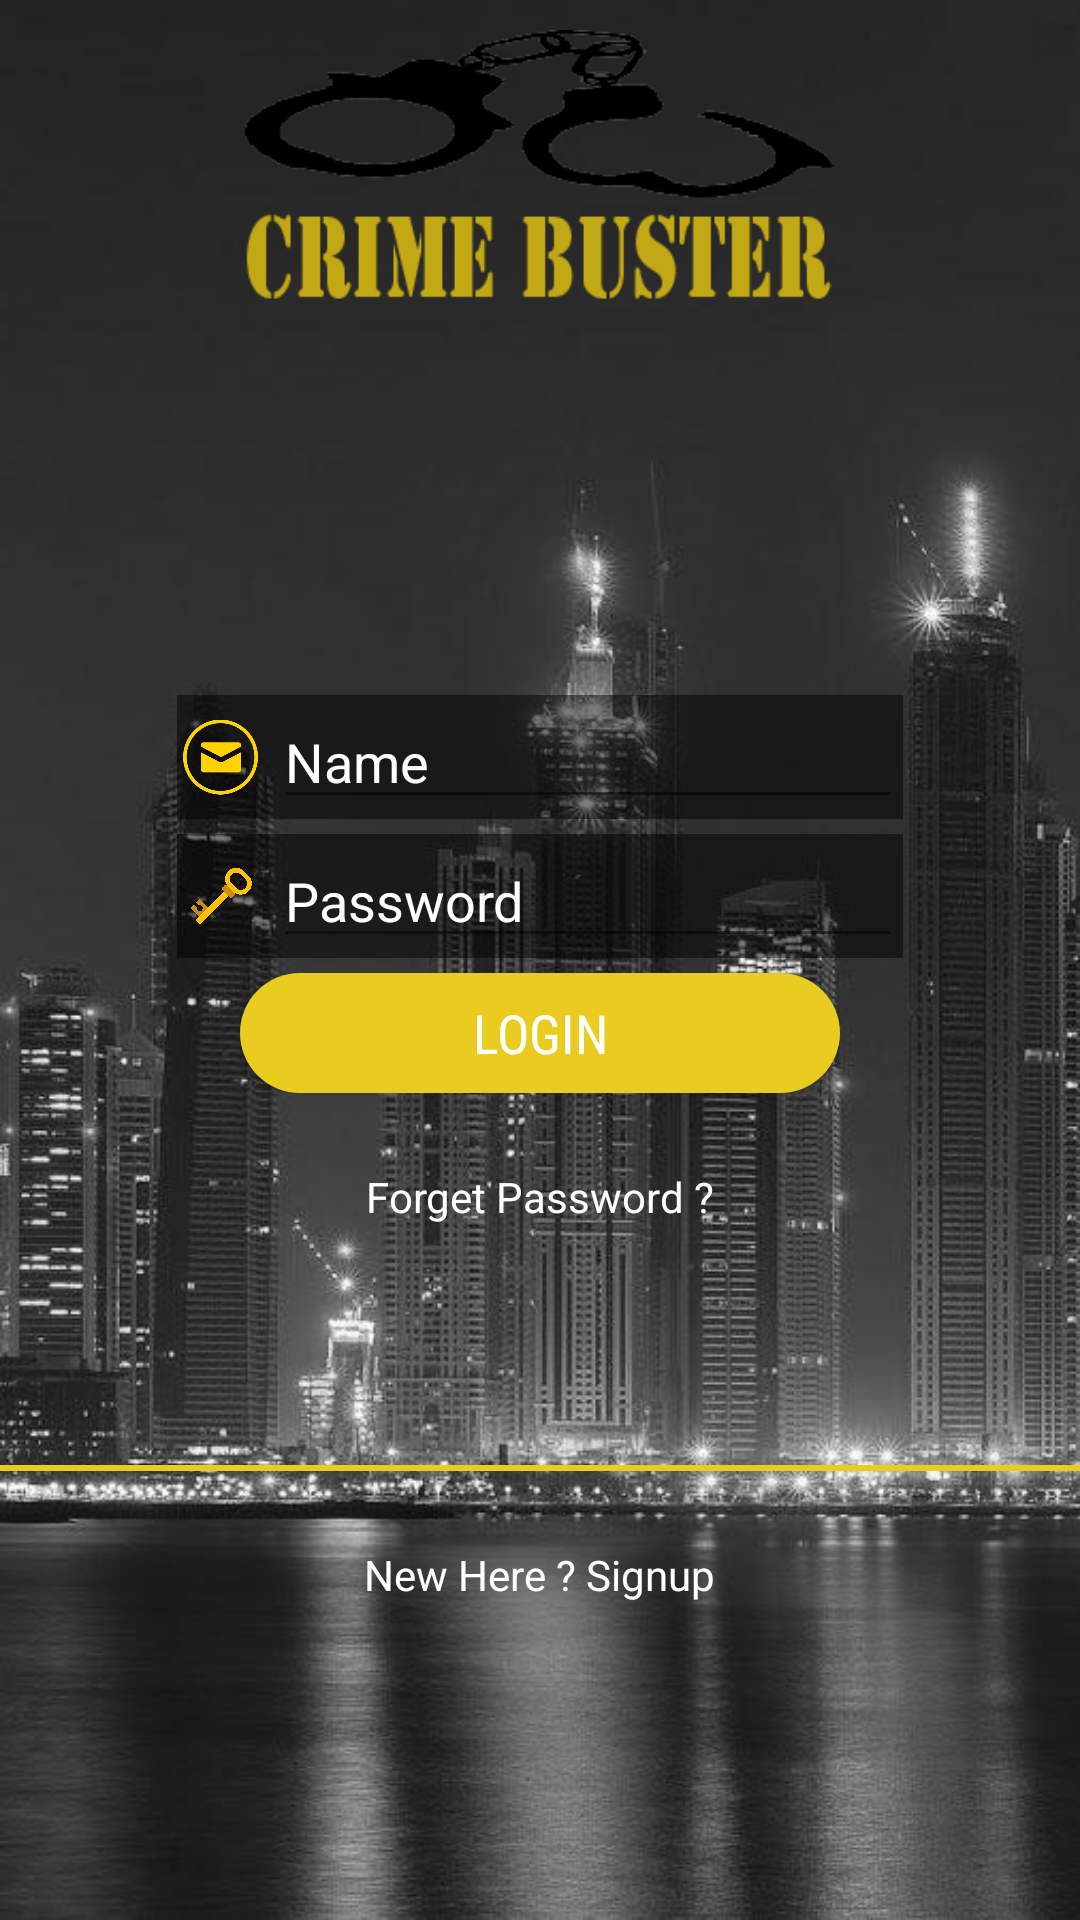

Named icons in this screenshot (1080x1920) and their centers, (x,y):
email: (220,757)
